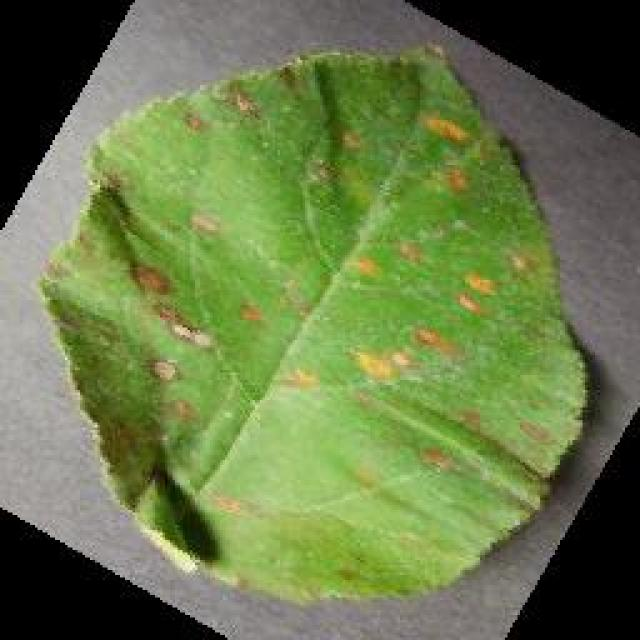apple rust disease: (38, 37, 592, 605)
